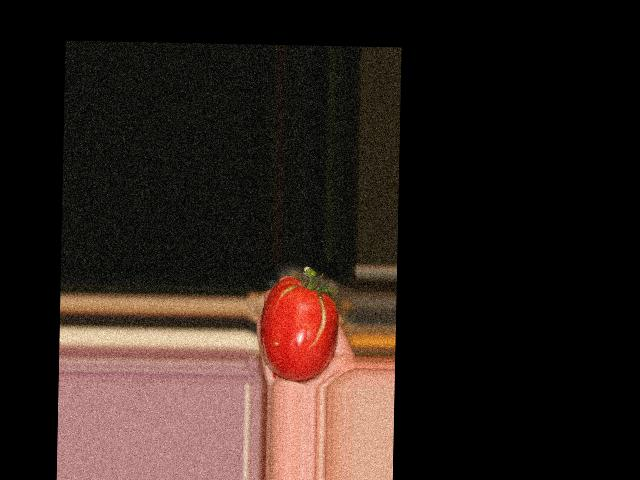tomato: (258, 276, 337, 382)
